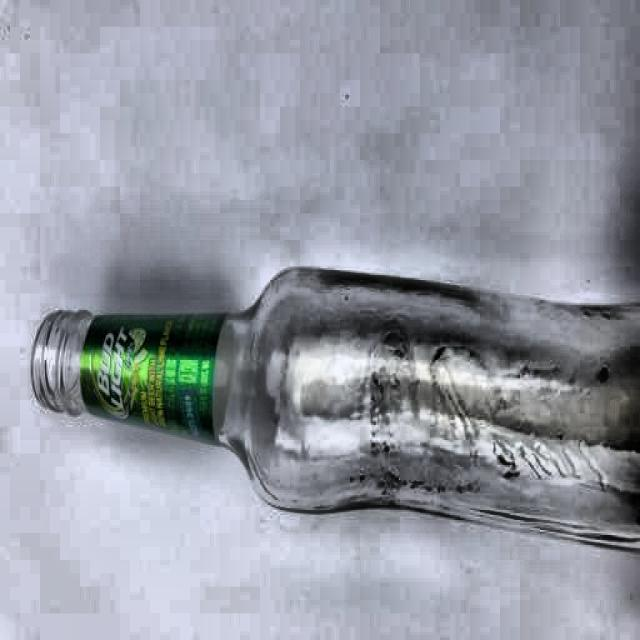glass: (35, 265, 640, 553)
